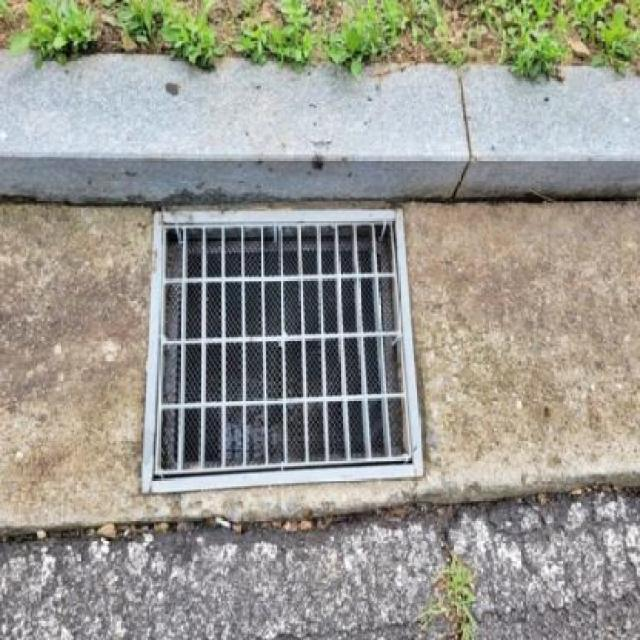Drain Hole: (111, 186, 443, 526)
